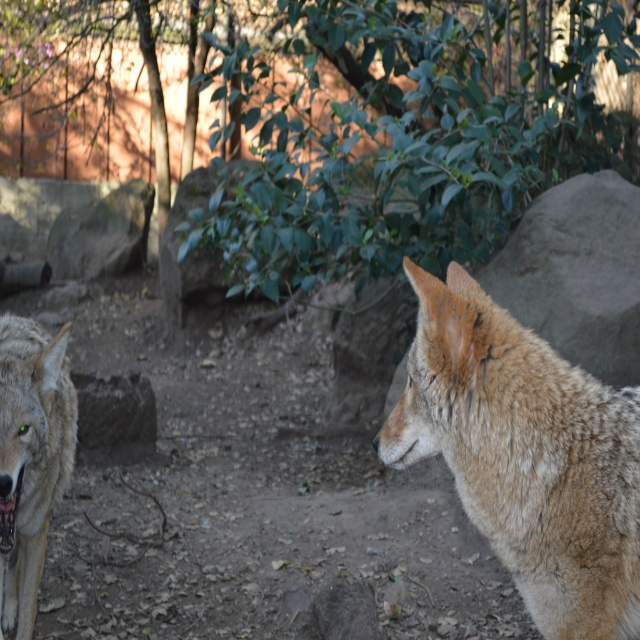Fox: (371, 253, 640, 639)
